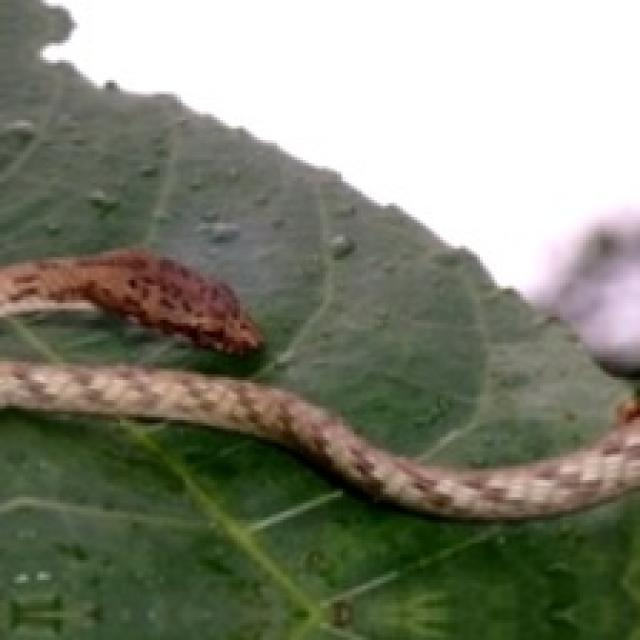philippine whip snake: (0, 360, 637, 520), (0, 249, 264, 354), (0, 249, 260, 351), (560, 271, 637, 374)
